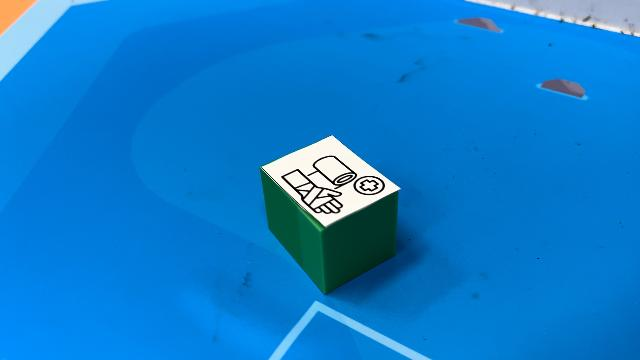bandage: (258, 133, 402, 295)
